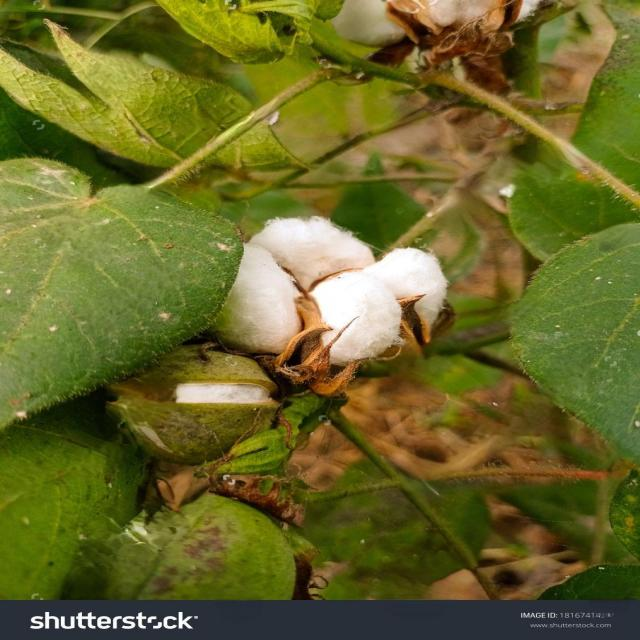Late_blight: (175, 199, 469, 408)
